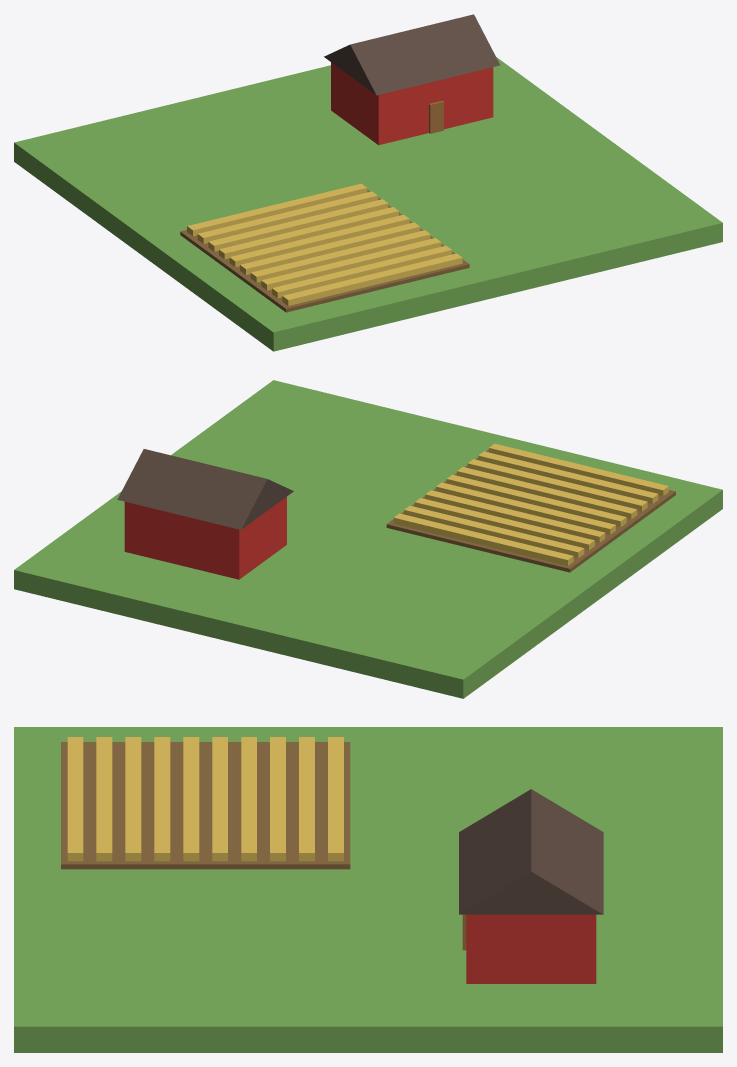
File: agro_rent_1.glb
The picture shows the model from 3 angles, top to bottom: view 1: azimuth 30°, elevation 25°; view 2: azimuth 150°, elevation 25°; view 3: azimuth 270°, elevation 25°; orthographic projection. The views are drawn at different scales.
Parts seen in each view (by area): view 1: agro_rent_1; view 2: agro_rent_1; view 3: agro_rent_1.
Part boxes in pixels (<box>): agro_rent_1: <box>14,14,722,351</box>; agro_rent_1: <box>14,380,722,698</box>; agro_rent_1: <box>14,727,722,1052</box>.
Bounding box in the file's own units: 1.96 × 0.432 × 1.96.
